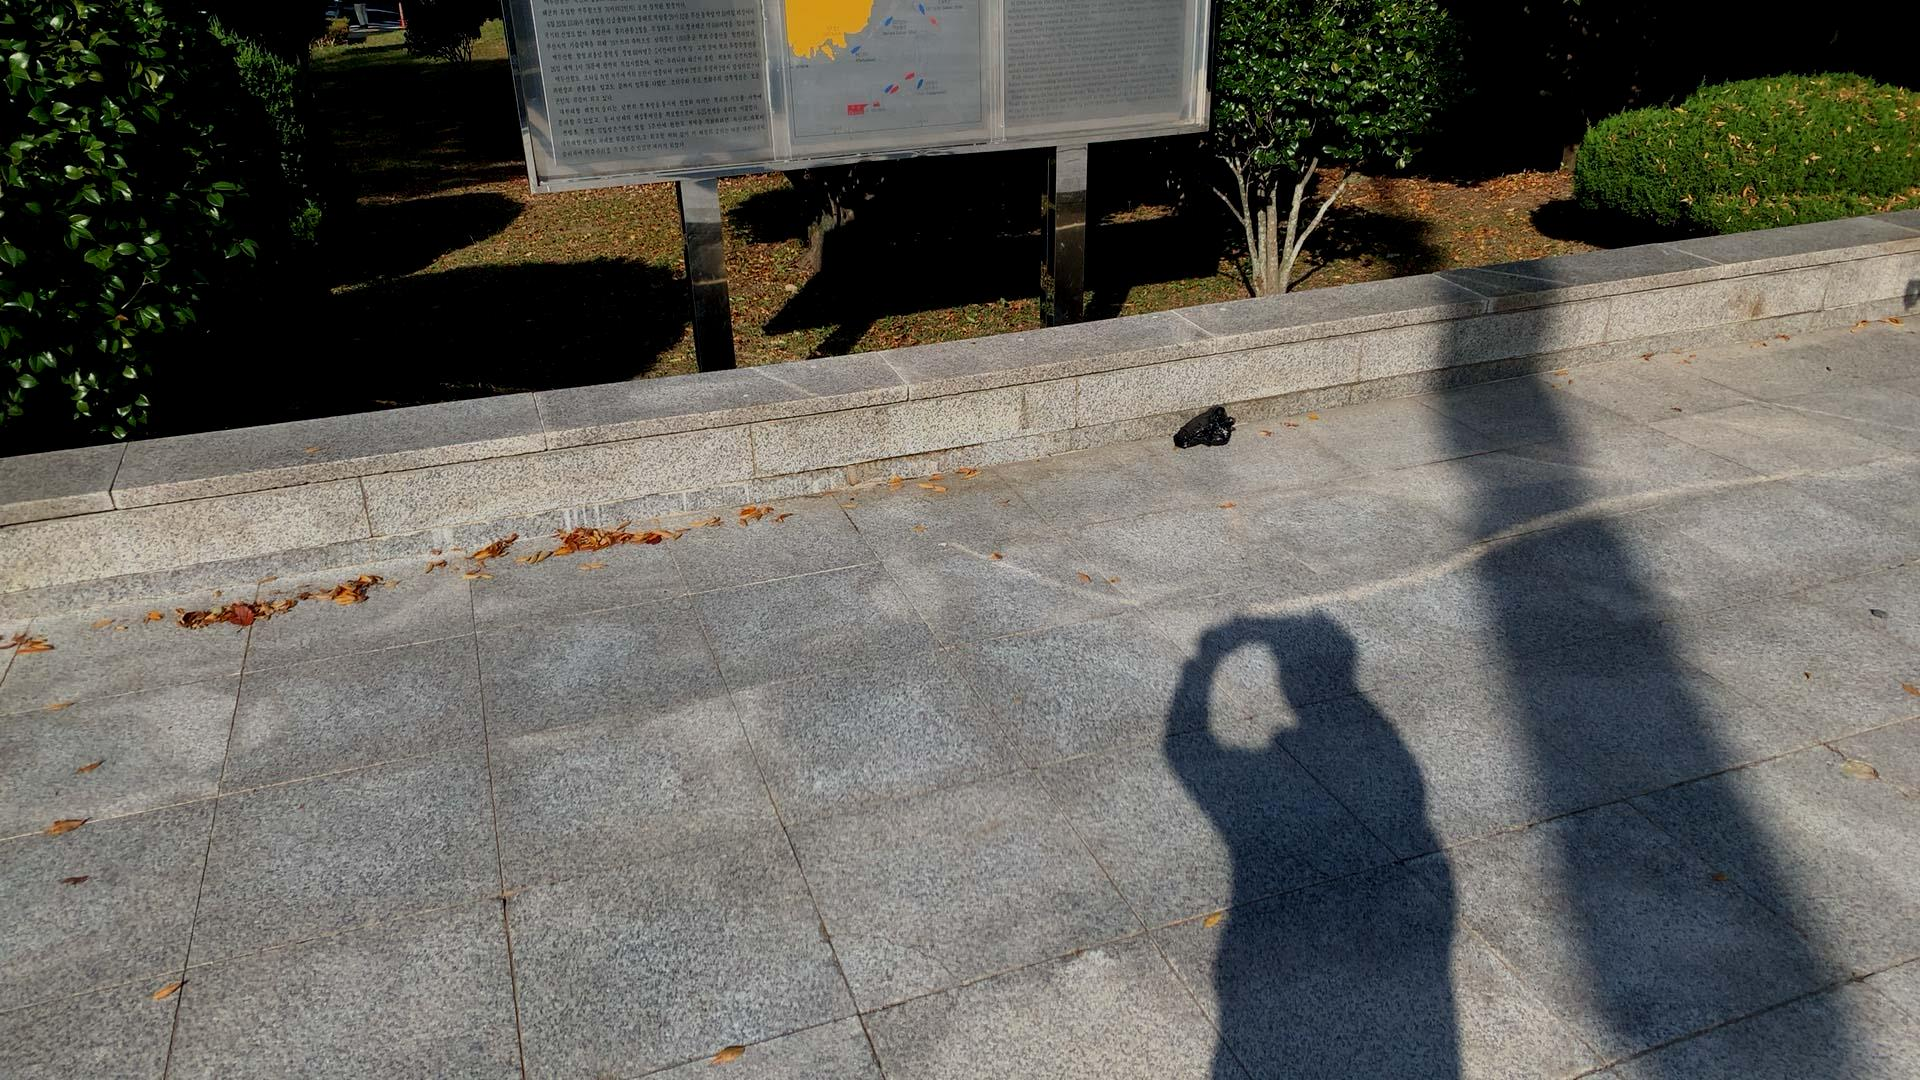black_bag: (1168, 396, 1240, 458)
